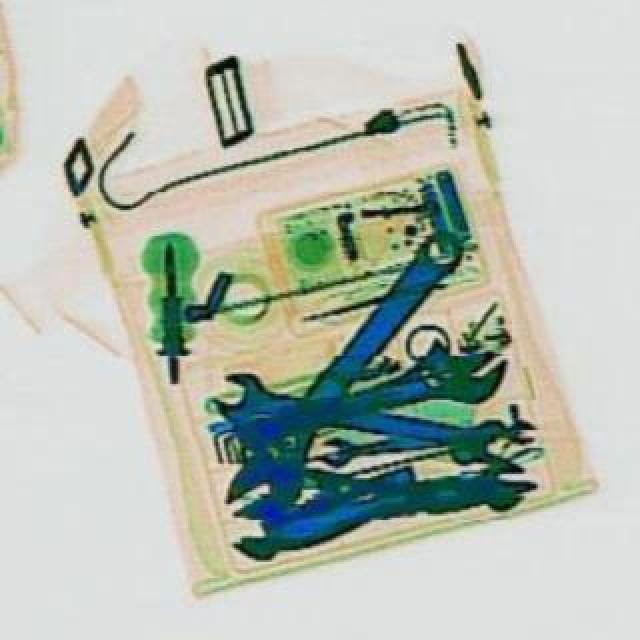scissors: (214, 214, 482, 530), (228, 336, 516, 464), (206, 362, 516, 468)
